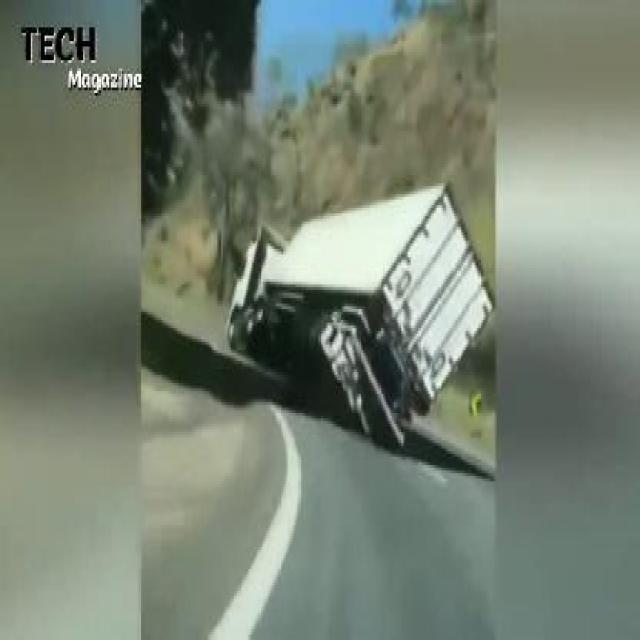accident: (228, 180, 494, 446)
